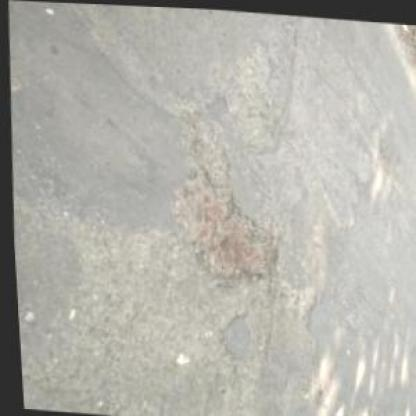pothole: (165, 166, 282, 290)
